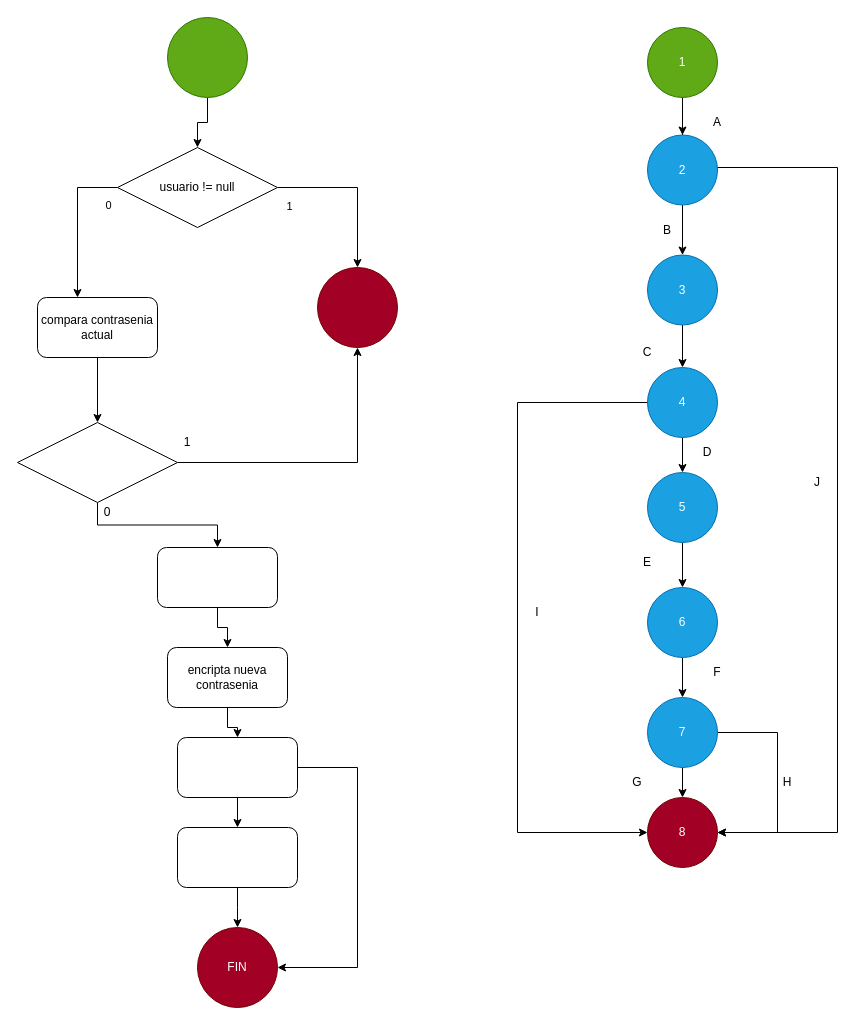
Image size: 865x1025. Some labels were removed from this diagram. Each missing label, with the centre of its shape:
define rondas: point 217,577
guarda usuario en DB: point 237,767
no es valida ?: point 97,462
retorna mensaje: point 237,857
Se busca el usuario: point 207,57
throw error: point 357,307
